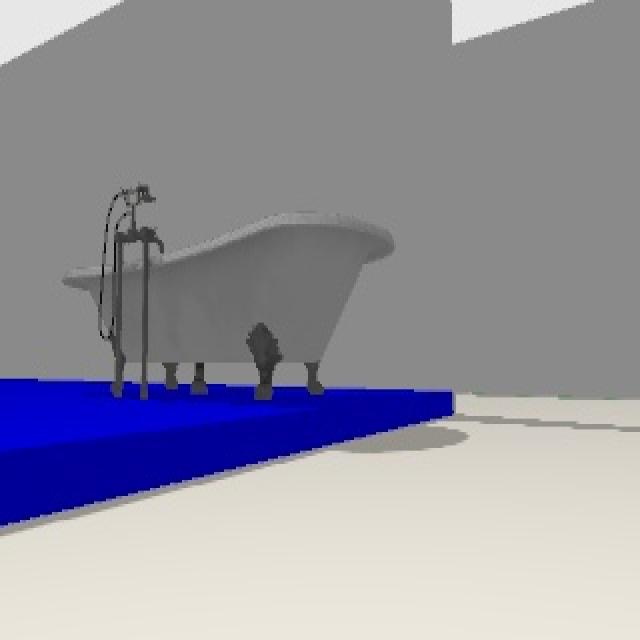bathtub: (61, 180, 398, 401)
